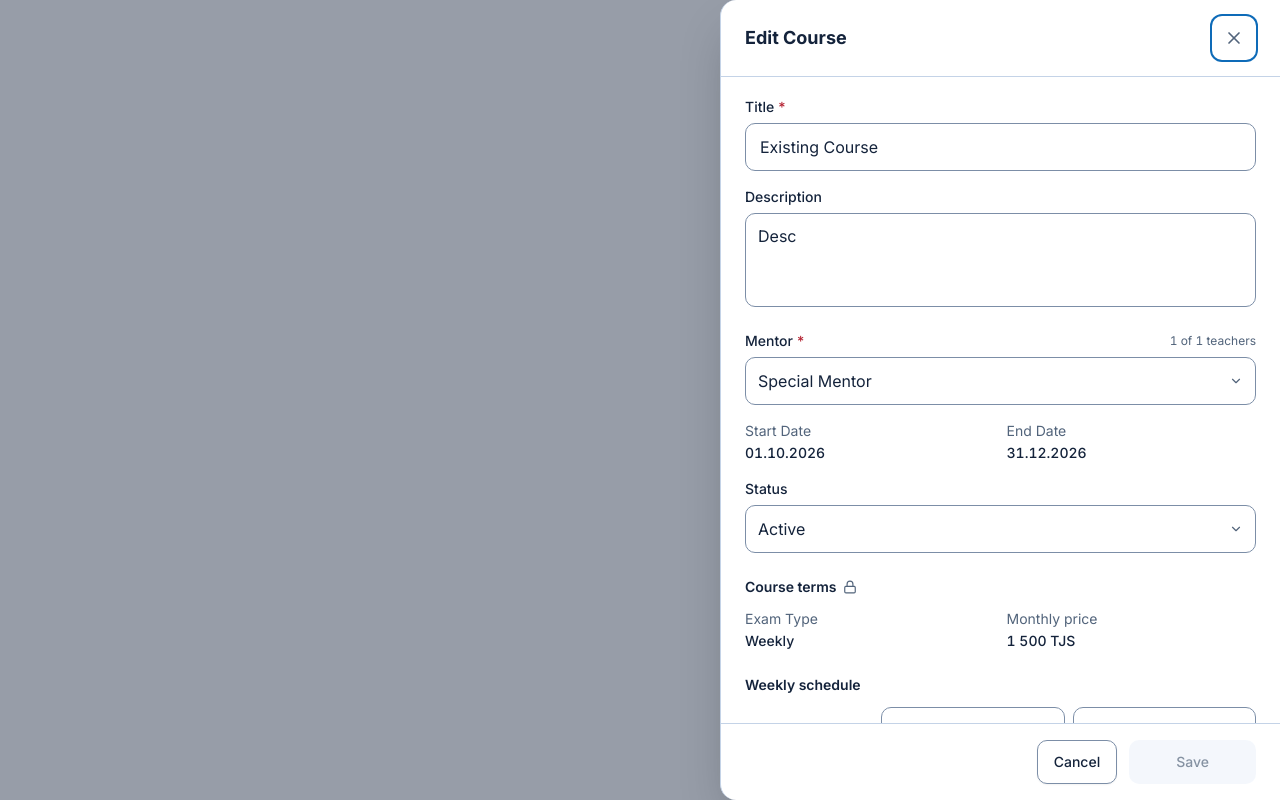
Test: represents course mentor in options in edit mode even if not in first page of loaded mentors
Click the button "Special Mentor". click: (815, 381)
box: x1=745 y1=357 x2=1256 y2=405
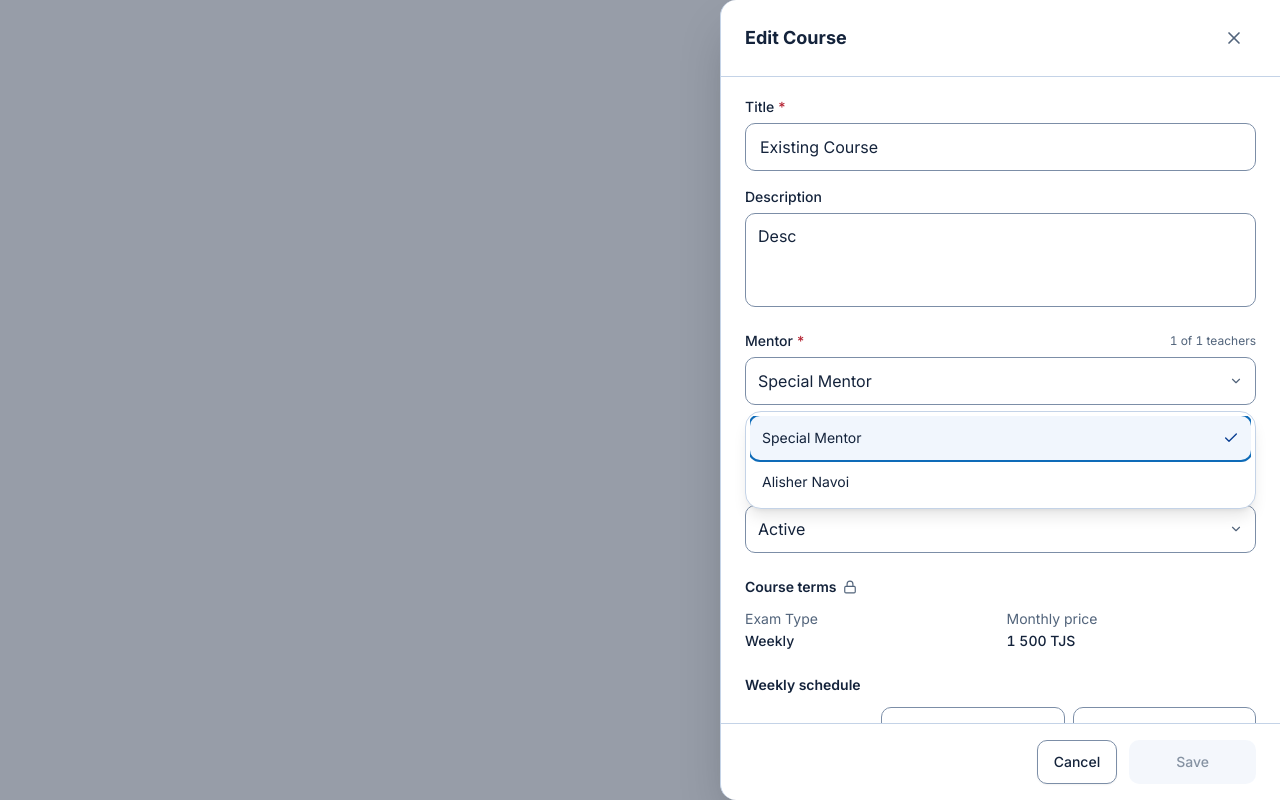
Expected: the option "Special Mentor" is shown, x1=750 y1=416 x2=1251 y2=460
